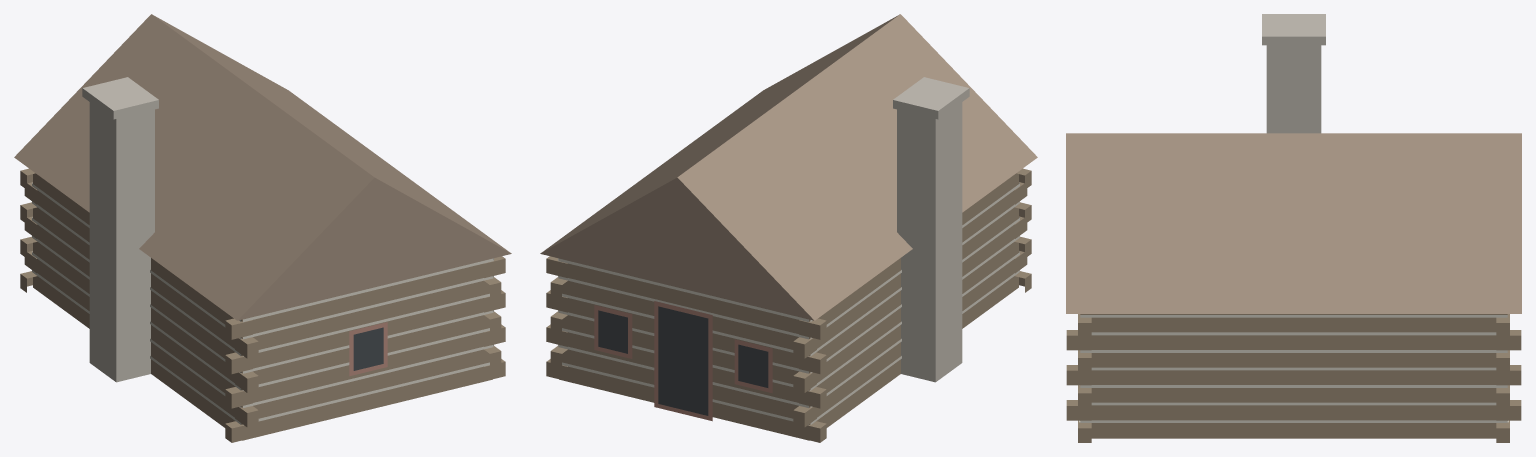
The model's file is recon_1835_blk_randolph_dearborn_d1_12__inferred_1835.glb.
The picture shows the model from 3 angles, left to right: view 1: azimuth 30°, elevation 25°; view 2: azimuth 150°, elevation 25°; view 3: azimuth 270°, elevation 25°; orthographic projection. The views are drawn at different scales.
Parts seen in each view (by area): view 1: recon_1835_blk_randolph_dearborn_d1_12__inferred_1835; view 2: recon_1835_blk_randolph_dearborn_d1_12__inferred_1835; view 3: recon_1835_blk_randolph_dearborn_d1_12__inferred_1835.
Part boxes in pixels (<box>): recon_1835_blk_randolph_dearborn_d1_12__inferred_1835: <box>14,14,511,442</box>; recon_1835_blk_randolph_dearborn_d1_12__inferred_1835: <box>540,14,1037,442</box>; recon_1835_blk_randolph_dearborn_d1_12__inferred_1835: <box>1066,14,1521,442</box>.
Size of the model in its own units: 6.26 by 5.49 by 8.01.
